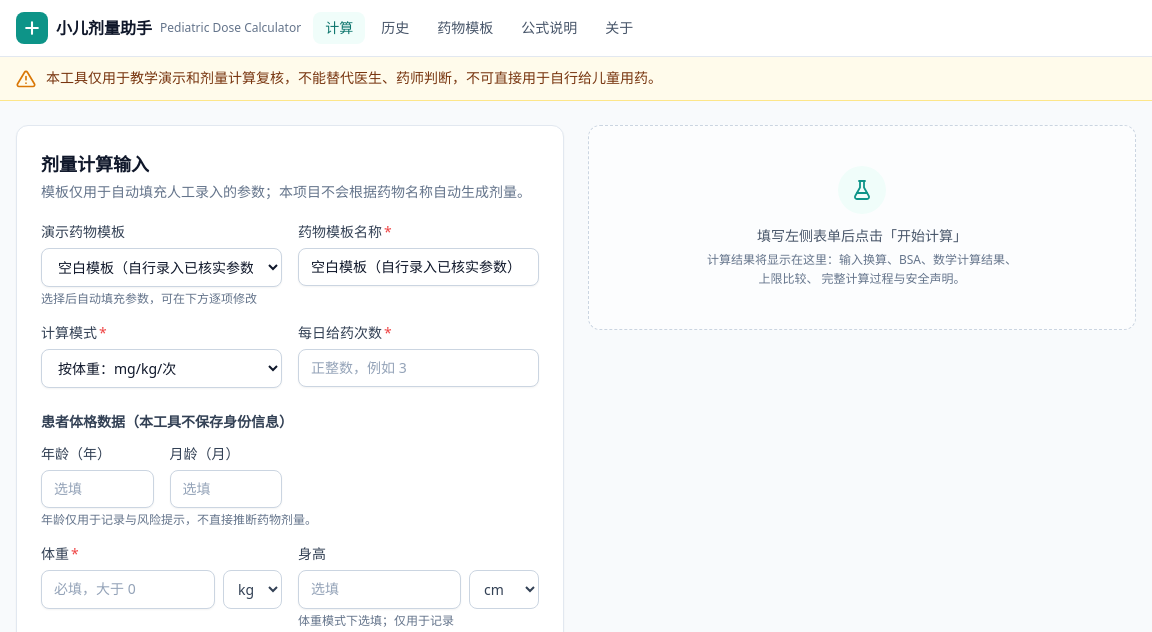
页面与按钮冒烟测试 › 未审核模板显著警告 + 来源缺失警告
Select "模拟药物C（虚构演示·体表面积每次）（虚构演示数据）" in the dropdown with id "f-template" at x=162, y=267, box [41,248,282,287]
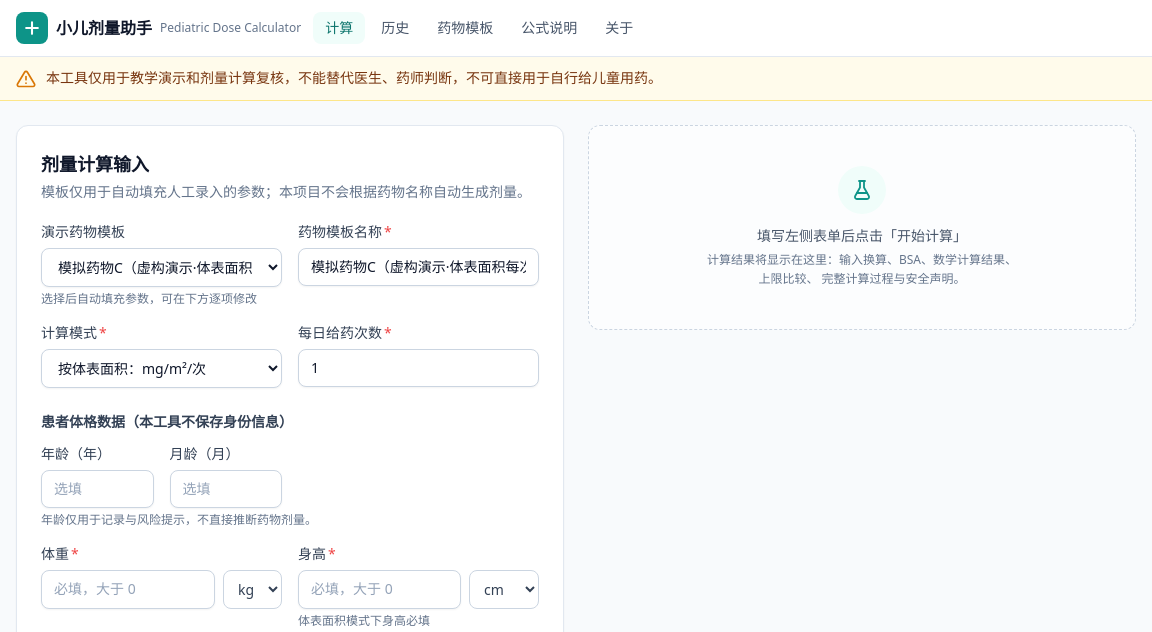
Type "20" into the number field with id "f-weight" at x=128, y=589, box [41,570,215,609]
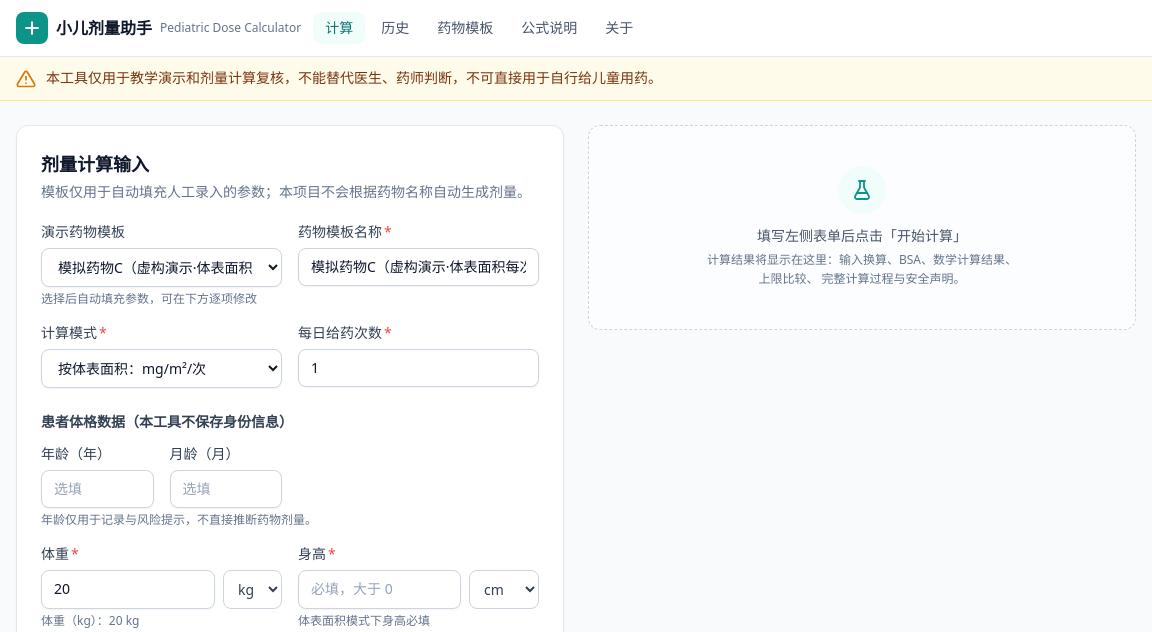
Type "110" into the number field with id "f-height" at x=380, y=589, box [298,570,461,609]
(page scrolled)
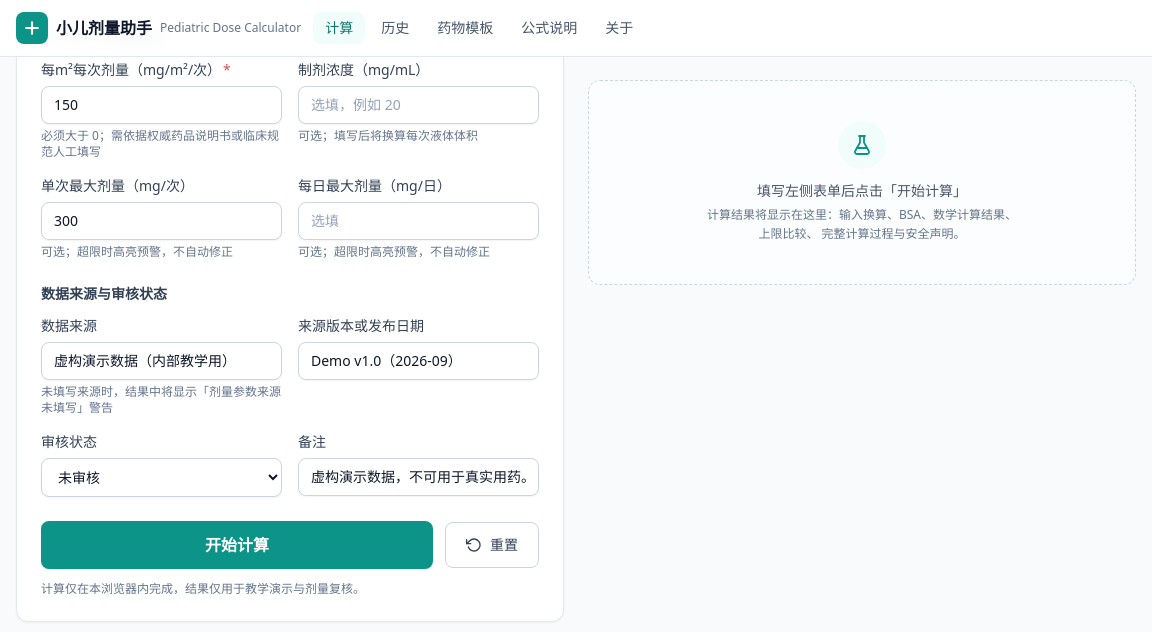
Clear the field with id "f-source" at x=162, y=361, box [41,342,282,380]
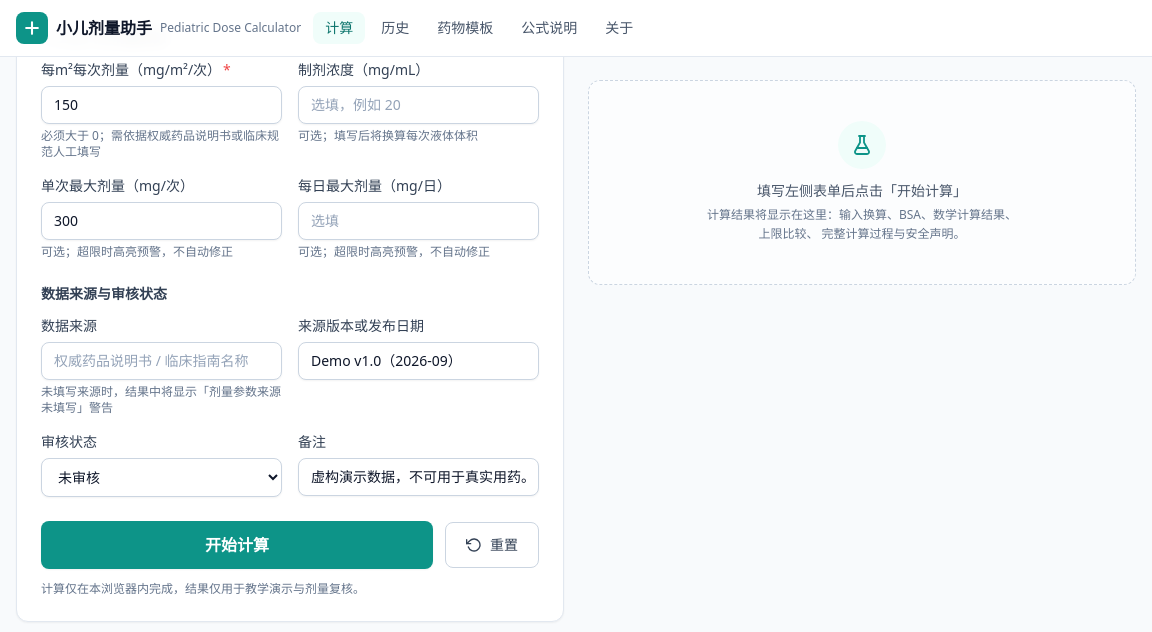
Click the button "开始计算" at x=237, y=545, box [41,521,433,569]
(page scrolled)
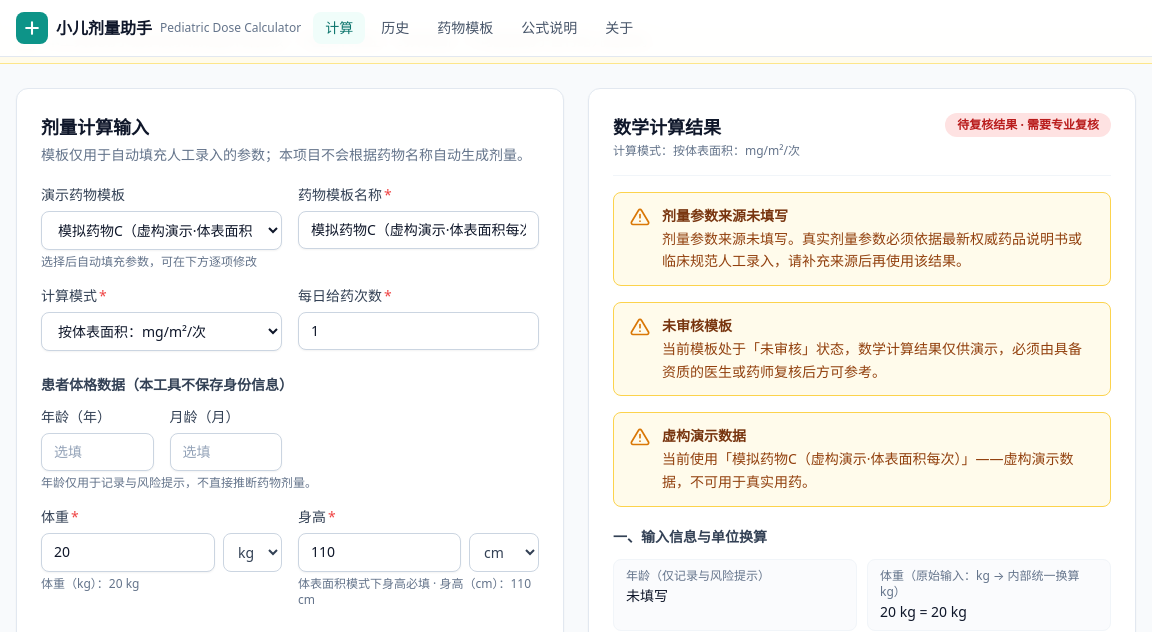
Check: the text "当前模板处于「未审核」状态，数学计算结果仅供演示，必须由具备资质的医生或药师复核后方可参考。" is shown, box [662,338,1094,383]
